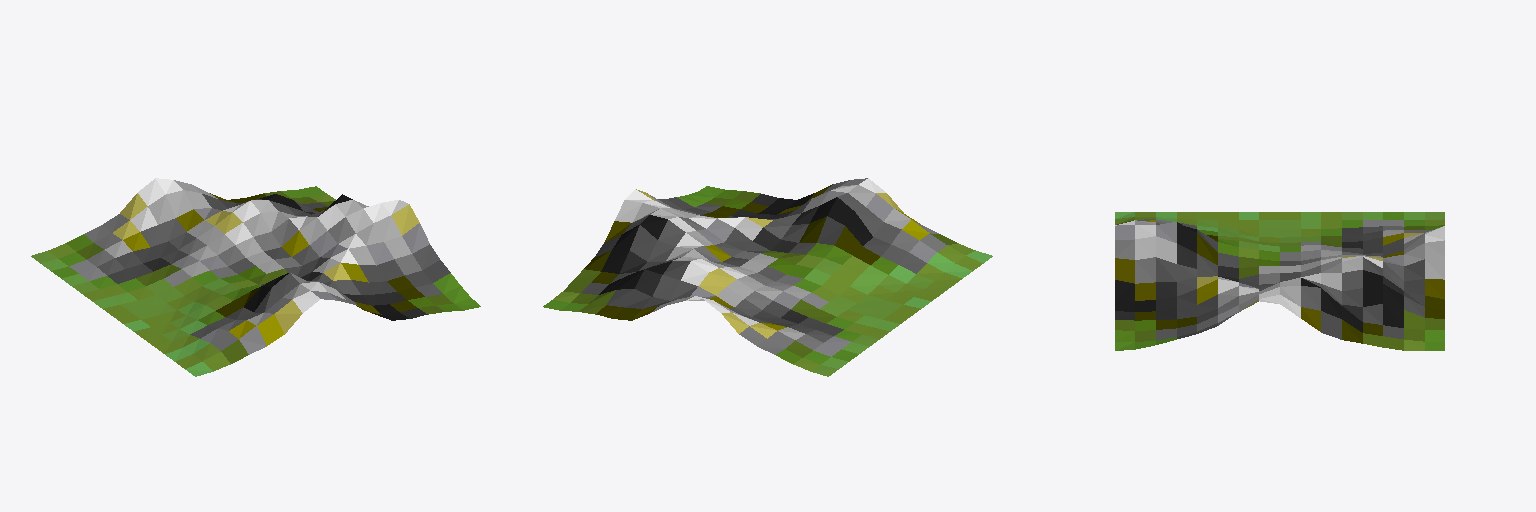
The picture shows the model from 3 angles: view 1: azimuth 30°, elevation 25°; view 2: azimuth 150°, elevation 25°; view 3: azimuth 270°, elevation 25°; orthographic projection.
Parts seen in each view (by area): view 1: mountains7; view 2: mountains7; view 3: mountains7.
Part boxes in pixels (x1,y1,x2,y2): mountains7: (31, 178, 480, 376); mountains7: (543, 178, 992, 376); mountains7: (1115, 212, 1444, 350).
Size of the model in its own units: 1 by 0.1707 by 1.
1 materials, 1 textured.